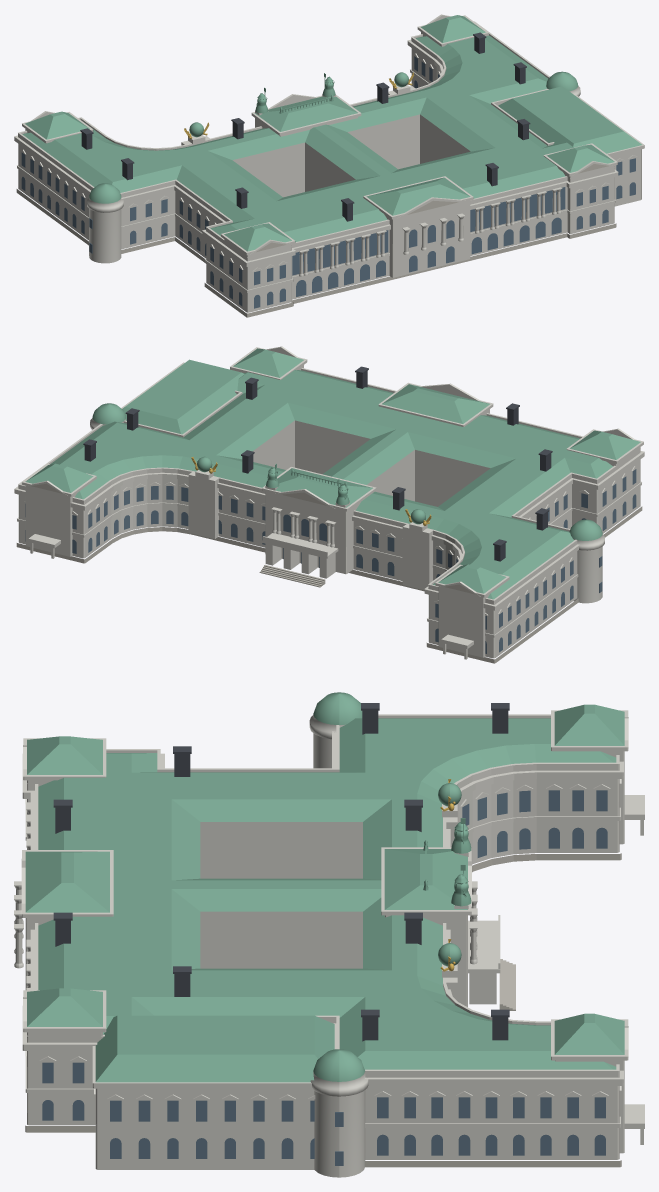
Rendered from tokyo-akasaka-palace.detail.glb.
3 views of the same model, one above another, from view 1: azimuth 30°, elevation 25°; view 2: azimuth 150°, elevation 25°; view 3: azimuth 270°, elevation 25° (orthographic). The views are drawn at different scales.
Visible parts, largest first — view 1: Akasaka Palace; view 2: Akasaka Palace; view 3: Akasaka Palace.
Boxes of the visible parts, <box> form: Akasaka Palace: <box>14,14,644,317</box>; Akasaka Palace: <box>14,346,644,663</box>; Akasaka Palace: <box>14,692,644,1177</box>.
Size of the model in its own units: 125 by 22.4 by 87.3.
